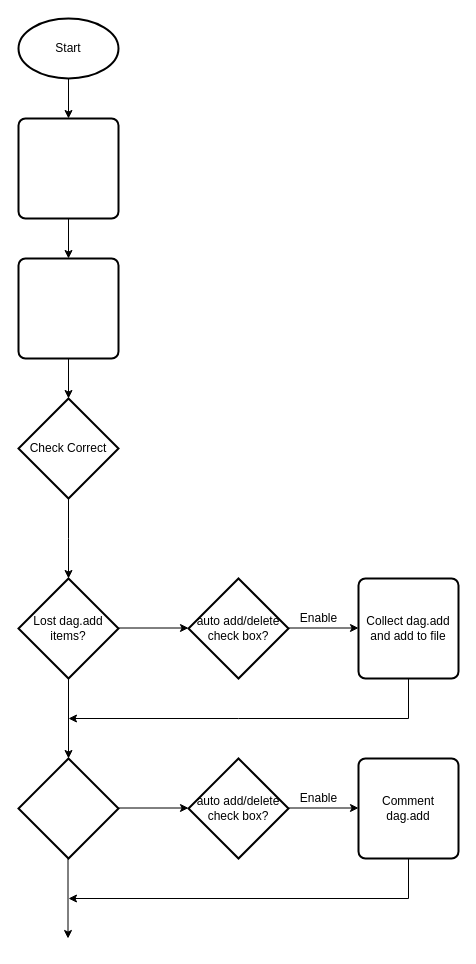
Some shapes in this 476 by 964 pixel diagram are drawn without their labels. Each missing label, with the centre of its shape:
"click" belongs at (68,308).
"drag" belongs at (68,168).
"Extra dag.add items?" belongs at (68,808).
